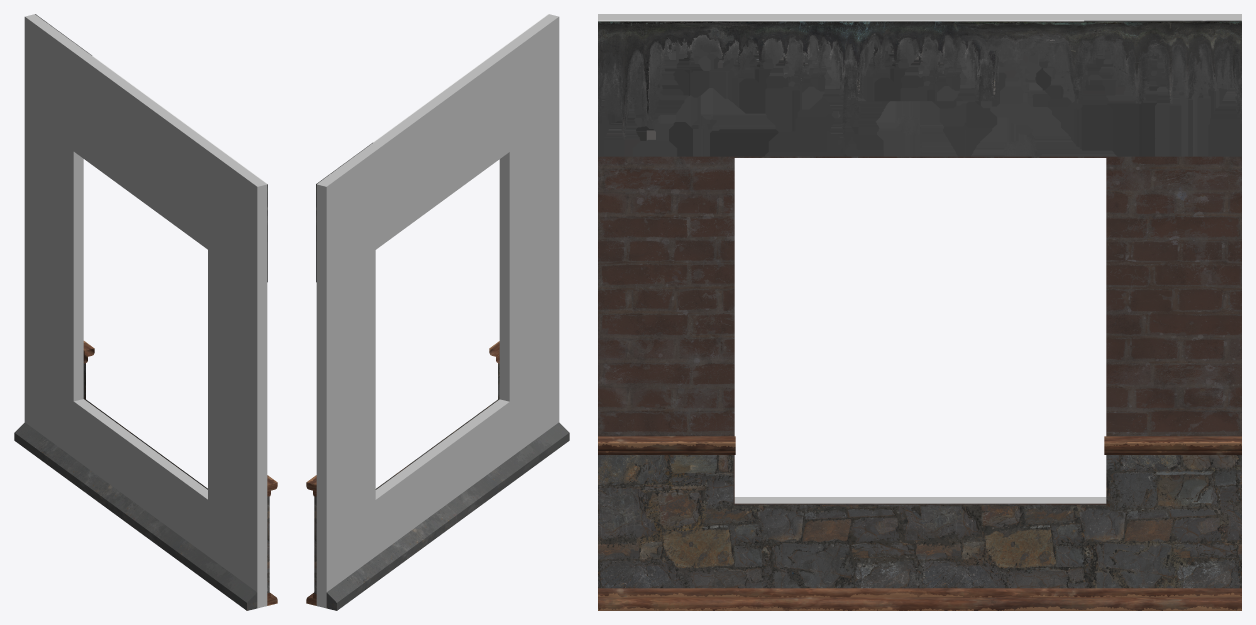
The model's file is Kit_BricksDoubleDoor.fbx.
3 renders of one model, left to right at view 1: azimuth 30°, elevation 25°; view 2: azimuth 150°, elevation 25°; view 3: azimuth 270°, elevation 25°, orthographic. The views are drawn at different scales.
Parts seen in each view (by area): view 1: Kit_BricksDoubleDoor; view 2: Kit_BricksDoubleDoor; view 3: Kit_BricksDoubleDoor.
Boxes of the visible parts, x1=… form: Kit_BricksDoubleDoor: x1=14, y1=14, x2=277, y2=610; Kit_BricksDoubleDoor: x1=306, y1=14, x2=569, y2=610; Kit_BricksDoubleDoor: x1=598, y1=14, x2=1241, y2=610.
Size of the model in its own units: 11.91 by 157 by 157.
